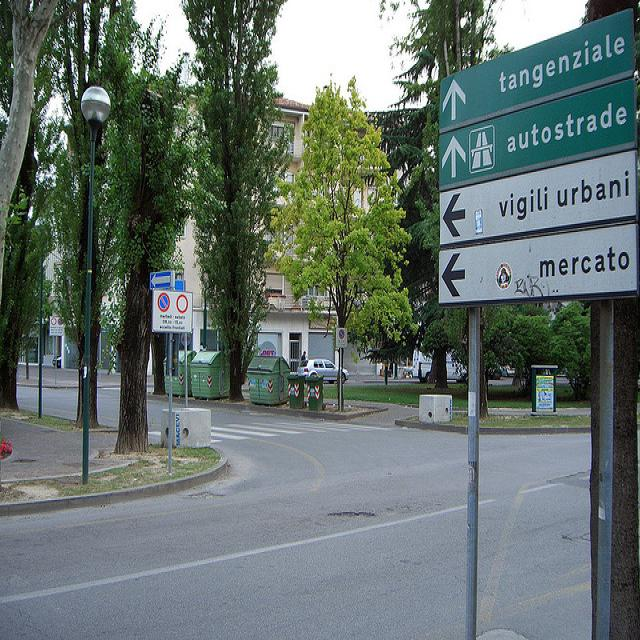Vehicle: (297, 358, 349, 382), (418, 361, 432, 383), (51, 355, 60, 369)
